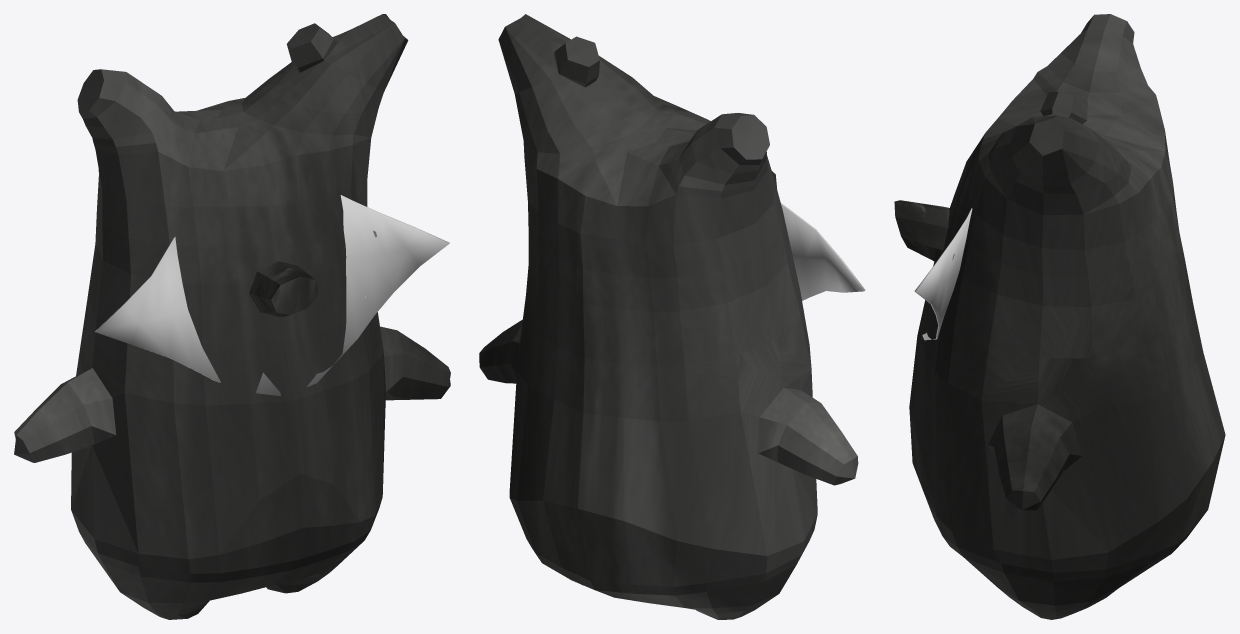
The model's file is frame_0098.obj.
The picture shows the model from 3 angles, left to right: view 1: azimuth 30°, elevation 25°; view 2: azimuth 150°, elevation 25°; view 3: azimuth 270°, elevation 25°; orthographic projection. The views are drawn at different scales.
Parts seen in each view (by area): view 1: korok, leaf, nose; view 2: korok, leaf; view 3: korok, nose, leaf.
Boxes of the visible parts, bbox=[...] form: korok: bbox=[14, 14, 450, 619]; leaf: bbox=[95, 195, 449, 395]; nose: bbox=[249, 261, 318, 317]; korok: bbox=[479, 14, 858, 619]; leaf: bbox=[781, 203, 865, 300]; korok: bbox=[909, 14, 1225, 619]; nose: bbox=[894, 200, 949, 261]; leaf: bbox=[914, 208, 972, 340].
Size of the model in its own units: 1.69 by 2.21 by 1.22.
